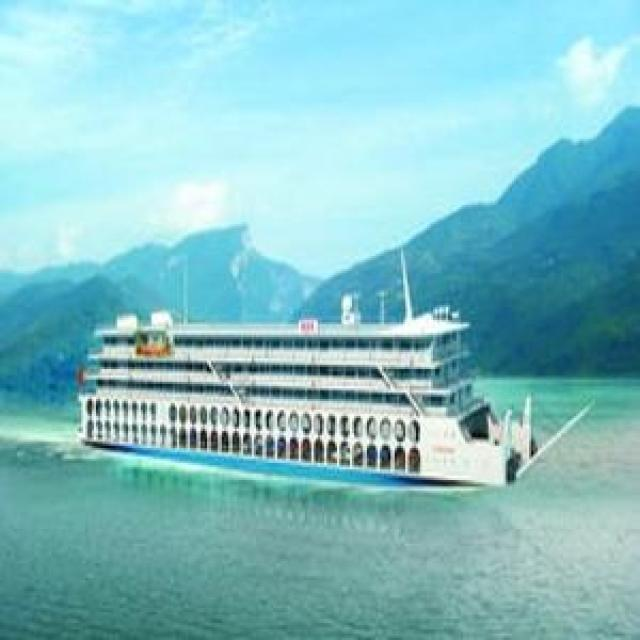passenger ship: (71, 280, 554, 486)
